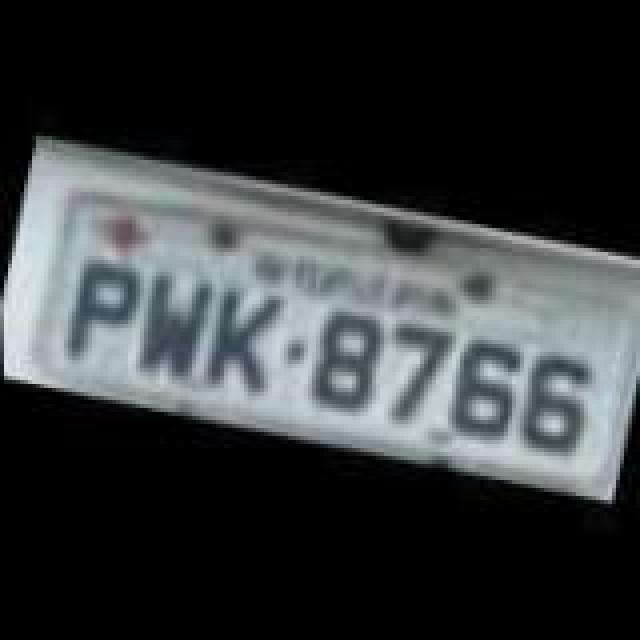6: (504, 334, 604, 458), (436, 324, 536, 444)
7: (368, 308, 460, 432)
8: (298, 298, 394, 418)
K: (196, 272, 284, 400)
P: (50, 250, 142, 374)
W: (124, 264, 212, 388)
